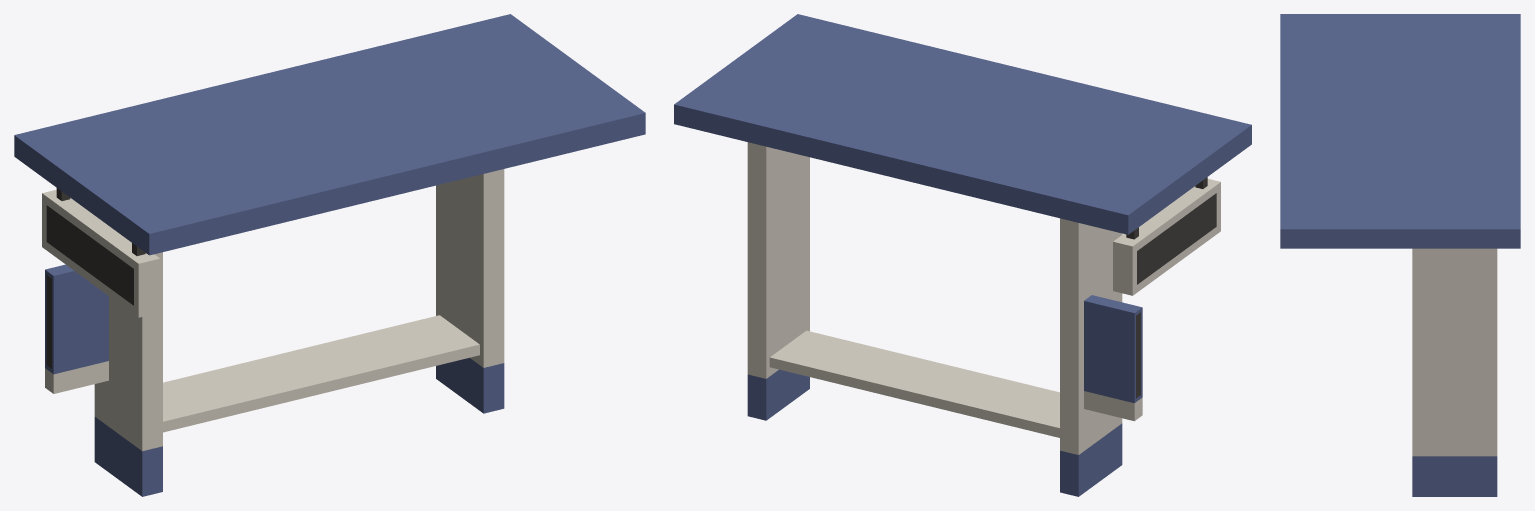
File: TramStop.glb
3 views of the same model, side by side, from view 1: azimuth 30°, elevation 25°; view 2: azimuth 150°, elevation 25°; view 3: azimuth 270°, elevation 25° (orthographic). The views are drawn at different scales.
Visible parts, largest first — view 1: Tram_Stop_1; view 2: Tram_Stop_1; view 3: Tram_Stop_1.
Boxes of the visible parts, x1=… form: Tram_Stop_1: x1=14, y1=14, x2=645, y2=496; Tram_Stop_1: x1=674, y1=14, x2=1251, y2=496; Tram_Stop_1: x1=1280, y1=14, x2=1520, y2=496.
Size of the model in its own units: 15.27 by 9.81 by 7.2.
Materials: 1 (1 with a texture image).
